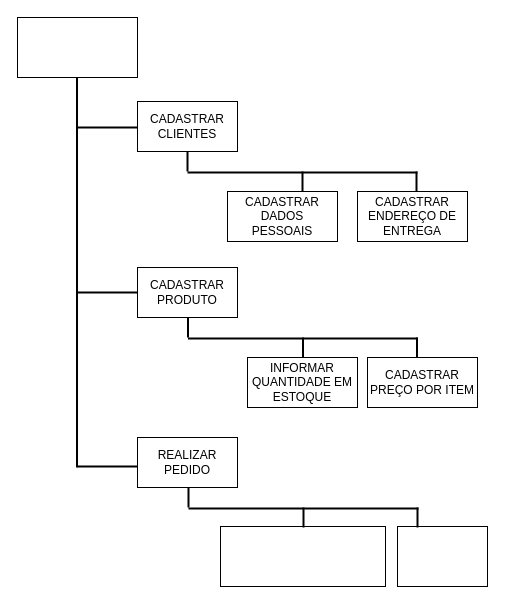
This 505x604 diagram has some shape labels left out. Each missing label, with the centre of its shape:
"APLICAÇÃO DE VENDAS" goes at point 77,47.
"EFETUAR PAGAMENTO" goes at point 442,556.
"FAZER CÁLCULO DO PEDIDO COM BASE NA QUANTIDADE DE ITENS SELECIONADOS" goes at point 303,556.
